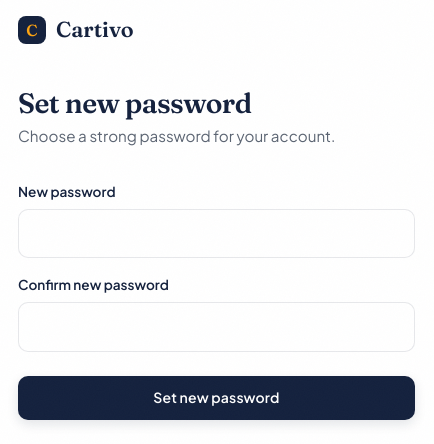
Test: ResetPasswordPage › shows Saving… while submitting
Type "StrongPass1" into the password field labelled "New password" at (216, 233), box [18,209,415,258]
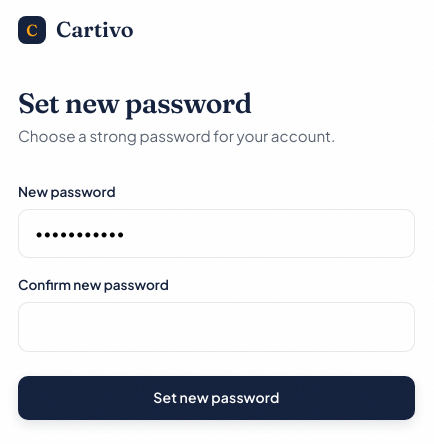
Type "StrongPass1" into the password field labelled "Confirm new password" at (216, 327), box [18,302,415,352]
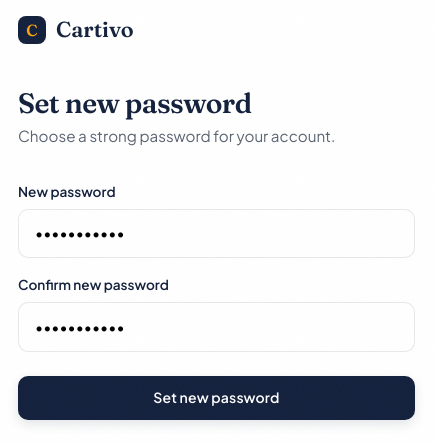
Click the button "Set new password" at (216, 398), box [18,376,415,420]
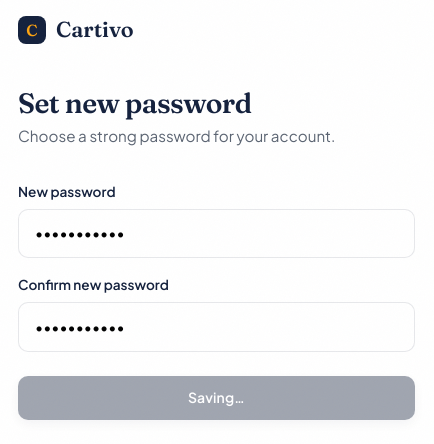
Now the button "Saving…" is disabled, box [18,376,415,420]
